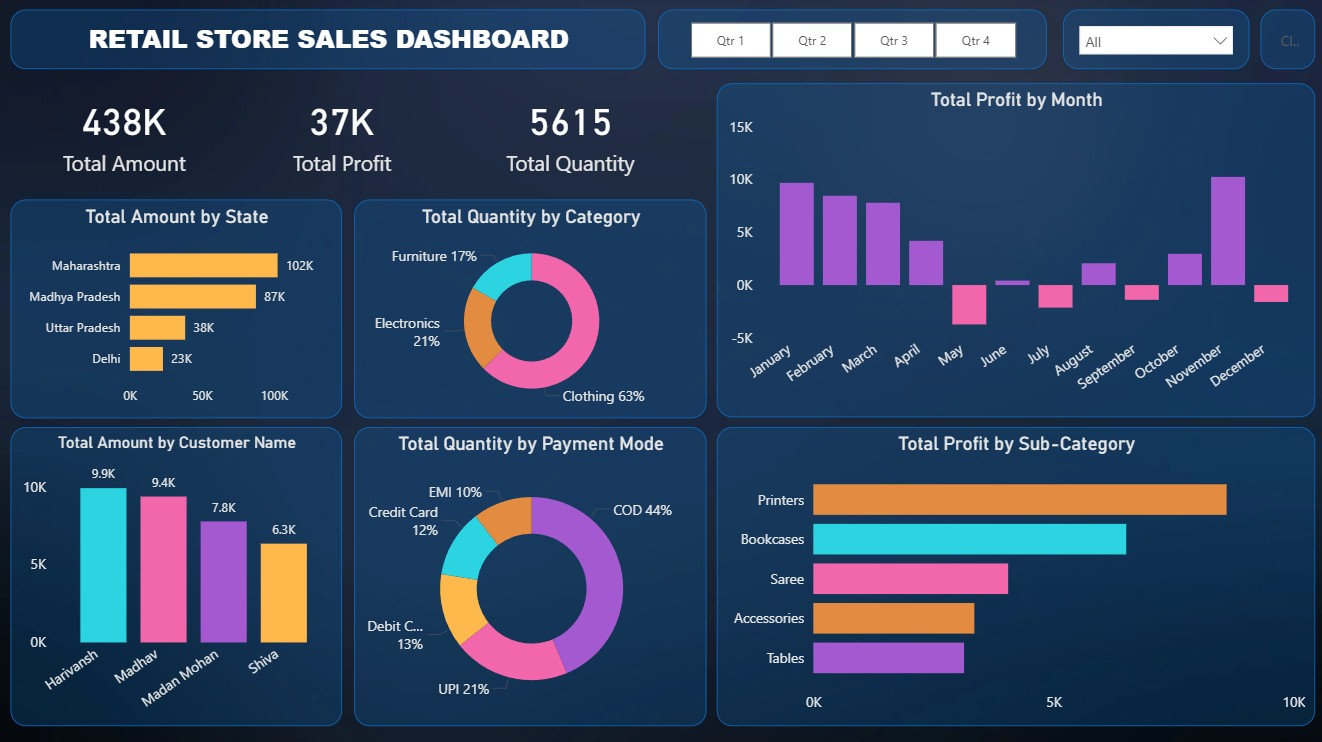

What the dashboard file says about the page in this screenshot:
{"tool":"powerbi","page":{"name":"Page 1","canvas":[1280,720],"ordinal":0},"visuals":[{"type":"textbox","box":[12.1,12.1,612.7,57.9],"z":0},{"type":"card","fields":{"Values":["Sum(Details.Amount)"]},"box":[12.5,83.8,220,95],"z":1000},{"type":"card","fields":{"Values":["Sum(Details.Profit)"]},"box":[232.5,83.8,198.8,95],"z":2000},{"type":"card","fields":{"Values":["Sum(Details.Quantity)"]},"box":[431.2,83.8,243.8,95],"z":3000},{"type":"clusteredColumnChart","title":"Total Profit by Month","fields":{"Category":["Orders.Order Date.Variation.Date Hierarchy.Month"],"Y":["Sum(Details.Profit)"]},"box":[693.8,83.8,577.5,322.5],"z":4000},{"type":"barChart","title":"Total Profit by Sub-Category","fields":{"Category":["Details.Sub-Category"],"Y":["Sum(Details.Profit)"]},"box":[693.8,415,577.5,288.8],"z":5000},{"type":"donutChart","title":"Total Quantity by Category","fields":{"Category":["Details.Category"],"Y":["Sum(Details.Quantity)"]},"box":[343.8,195,340,211.2],"z":6000},{"type":"donutChart","title":"Total Quantity by Payment Mode","fields":{"Y":["Sum(Details.Quantity)"],"Category":["Details.PaymentMode"]},"box":[343.8,415,340,288.8],"z":7000},{"type":"clusteredColumnChart","title":"Total Amount by Customer Name","fields":{"Category":["Orders.CustomerName"],"Y":["Sum(Details.Amount)"]},"box":[12.5,415,320,288.8],"z":8000},{"type":"barChart","title":"Total Amount by State","fields":{"Category":["Orders.State"],"Y":["Sum(Details.Amount)"]},"box":[12.5,195,320,211.2],"z":9000},{"type":"slicer","fields":{"Values":["Orders.Order Date.Variation.Date Hierarchy.Quarter"]},"box":[637.5,12.5,375,57.5],"z":10000},{"type":"slicer","fields":{"Values":["Orders.State"]},"box":[1027.5,12.5,180,57.5],"z":11000},{"type":"actionButton","box":[1218.8,12.5,52.5,57.5],"z":12000}]}

Visuals, with their boxes in screenshot pixels (x1, y1, x2, y2), scaled from the page's 1280x720 canvas onto the 1322x742 screenshot:
textbox: l=12, t=12, r=645, b=72
card - Sum(Details.Amount): l=13, t=86, r=240, b=184
card - Sum(Details.Profit): l=240, t=86, r=445, b=184
card - Sum(Details.Quantity): l=445, t=86, r=697, b=184
"Total Profit by Month" clusteredColumnChart: l=717, t=86, r=1313, b=419
"Total Profit by Sub-Category" barChart: l=717, t=428, r=1313, b=725
"Total Quantity by Category" donutChart: l=355, t=201, r=706, b=419
"Total Quantity by Payment Mode" donutChart: l=355, t=428, r=706, b=725
"Total Amount by Customer Name" clusteredColumnChart: l=13, t=428, r=343, b=725
"Total Amount by State" barChart: l=13, t=201, r=343, b=419
slicer - Orders.Order Date.Variation.Date Hierarchy.Quarter: l=658, t=13, r=1046, b=72
slicer - Orders.State: l=1061, t=13, r=1247, b=72
actionButton: l=1259, t=13, r=1313, b=72
